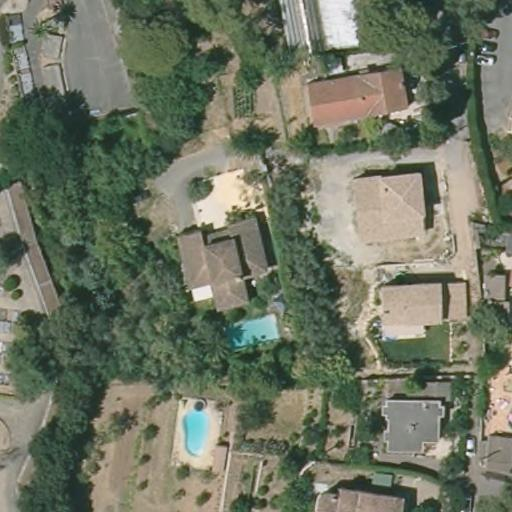pool: (220, 313, 282, 349), (177, 404, 217, 457)
